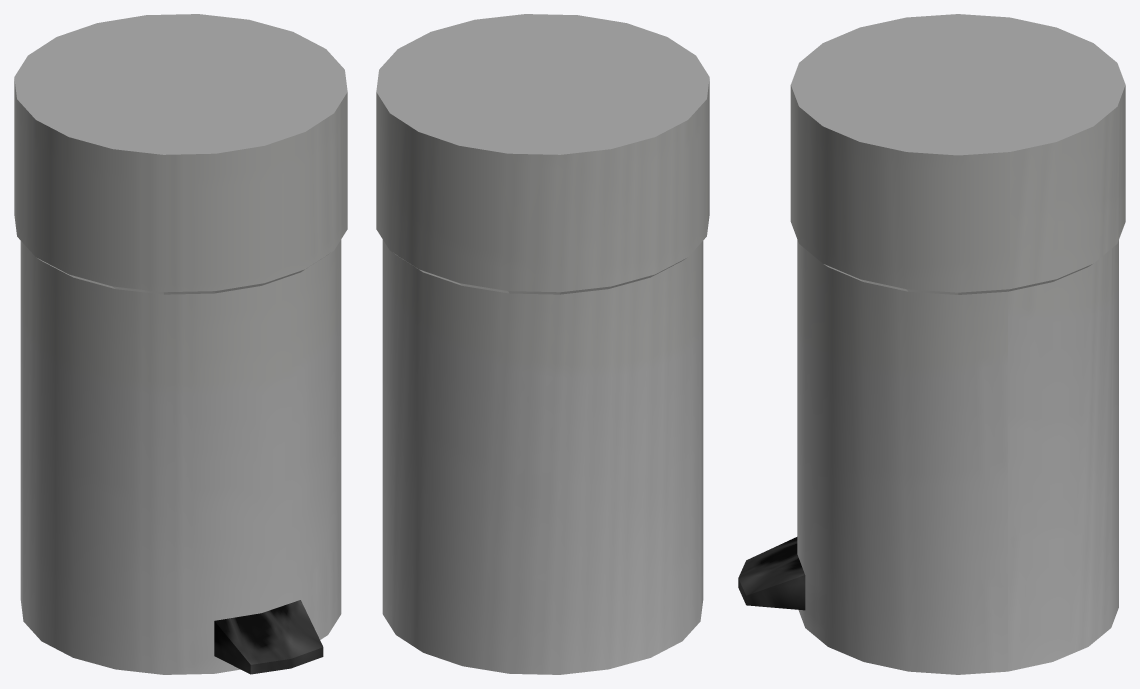
The model's file is poubelle.fbx.
3 renders of one model, left to right at view 1: azimuth 30°, elevation 25°; view 2: azimuth 150°, elevation 25°; view 3: azimuth 270°, elevation 25°, orthographic.
Visible parts, largest first — view 1: pCylinder2; view 2: pCylinder2; view 3: pCylinder2.
Boxes of the visible parts, x1=… form: pCylinder2: x1=14, y1=14, x2=347, y2=674; pCylinder2: x1=376, y1=14, x2=709, y2=674; pCylinder2: x1=738, y1=14, x2=1125, y2=674.
Size of the model in its own units: 11.78 by 20.27 by 13.63.
3 materials, 2 textured.
